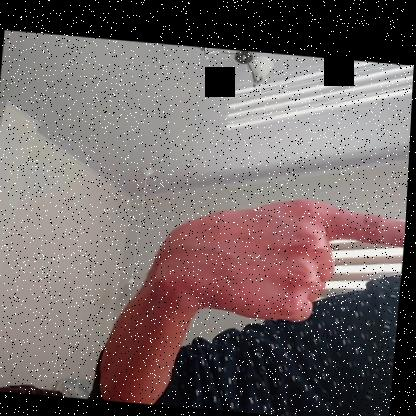G: (162, 185, 408, 328)
